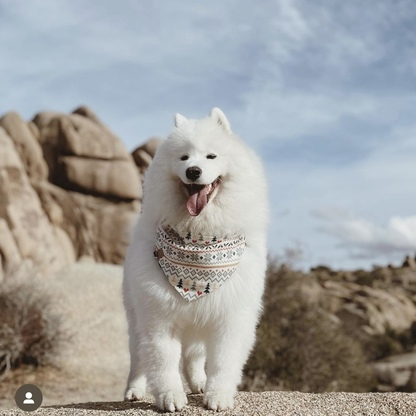samoyed: (112, 103, 274, 416)
